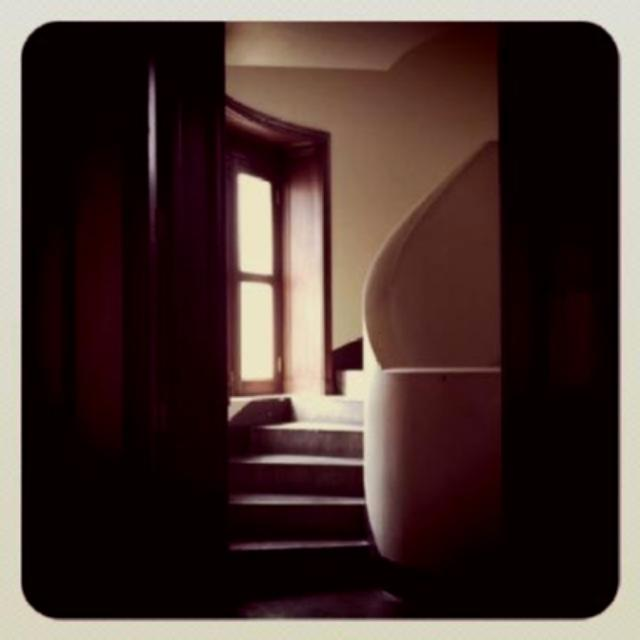stair: (230, 370, 368, 588)
